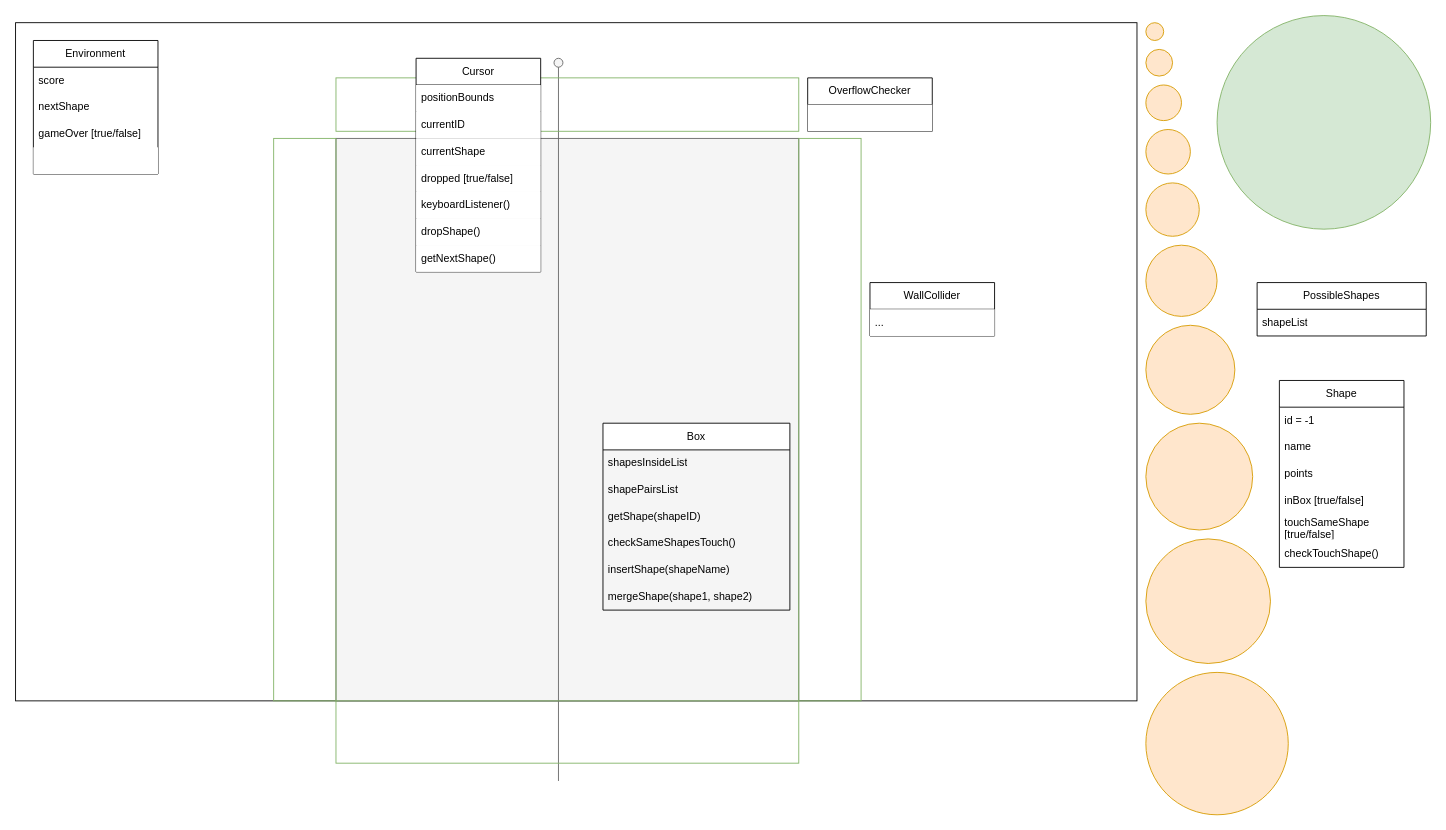
Image size: 1446x830. Some labels were removed from this diagram. The centre of each missing label's shape, as x and y in pixels:
"boxOverflow [true/false]" belongs at (869,117).
"updateNextShape()" belongs at (95,160).
